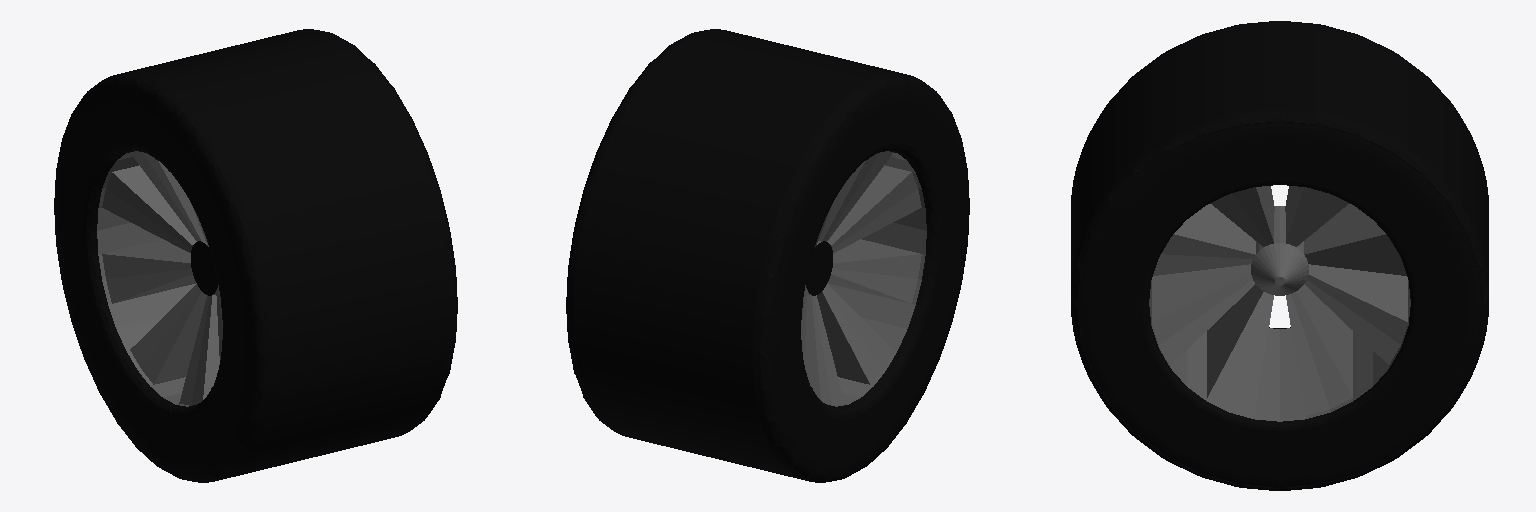
Rendered from empaler_truck_rear_wheel.obj.
3 renders of one model, left to right at view 1: azimuth 30°, elevation 25°; view 2: azimuth 150°, elevation 25°; view 3: azimuth 270°, elevation 25°, orthographic.
Parts seen in each view (by area): view 1: Cylinder.006; view 2: Cylinder.006; view 3: Cylinder.006.
Part boxes in pixels (left/top/right/bottom): Cylinder.006: left=54, top=29, right=457, bottom=482; Cylinder.006: left=566, top=29, right=969, bottom=482; Cylinder.006: left=1071, top=21, right=1488, bottom=490.
Bounding box in the file's own units: 0.926 × 1.64 × 1.64.